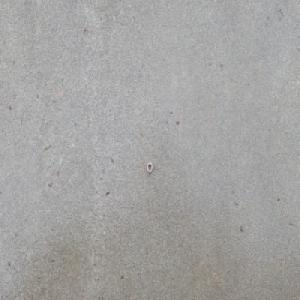Nut: (146, 161, 153, 173)
